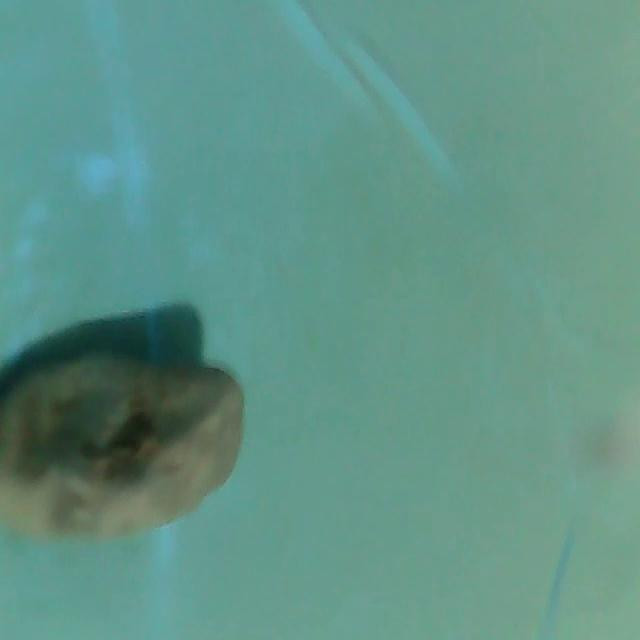rock: (0, 350, 250, 546)
